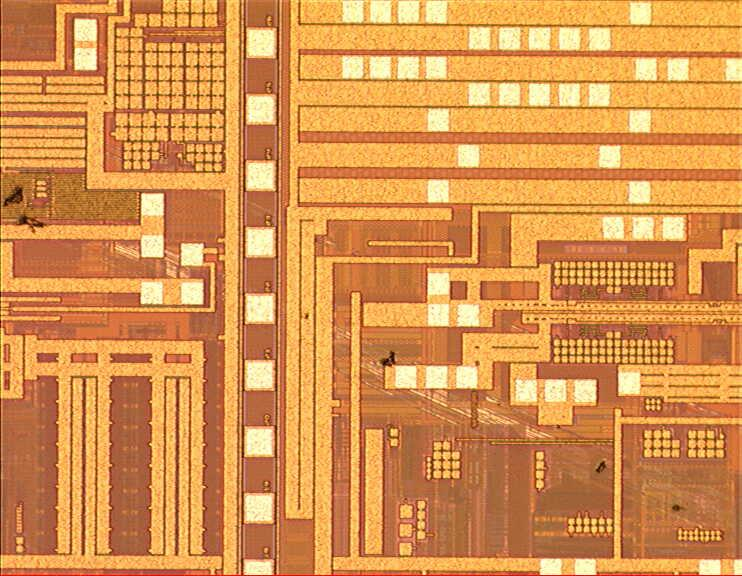SCRATCH: (1, 142, 742, 563)
